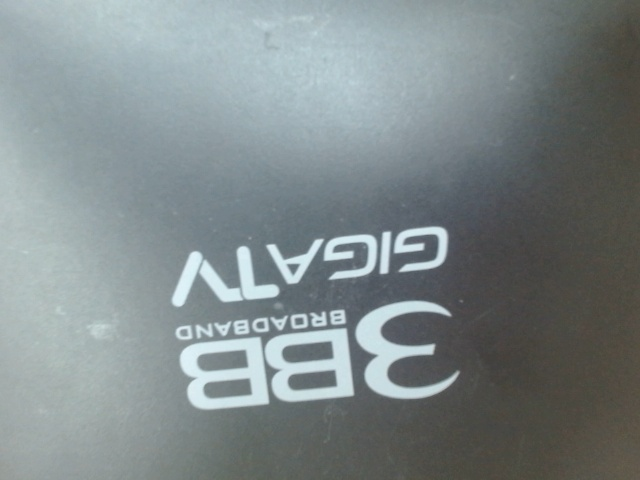AG_3BB: (158, 220, 476, 412)
